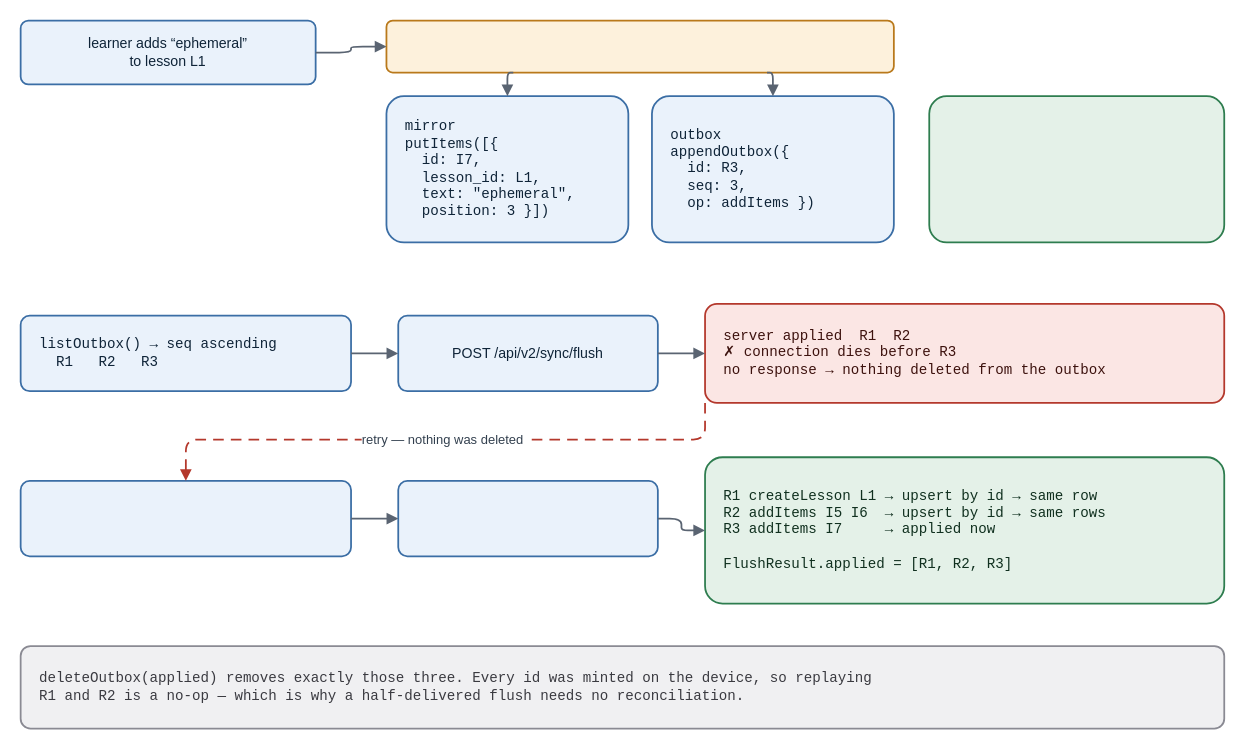
The diagram is 1246 pixels wide and 750 high, and some of its shapes have lost their labels. Each missing label, with the box of its shape:
listOutbox() → still R1 R2 R3: (19, 479, 351, 557)
one MirrorStore.transact — both writes, or neither: (385, 19, 894, 73)
POST again: (397, 479, 658, 557)
The UI can never show a change whose intent was not queued.: (928, 95, 1225, 243)
